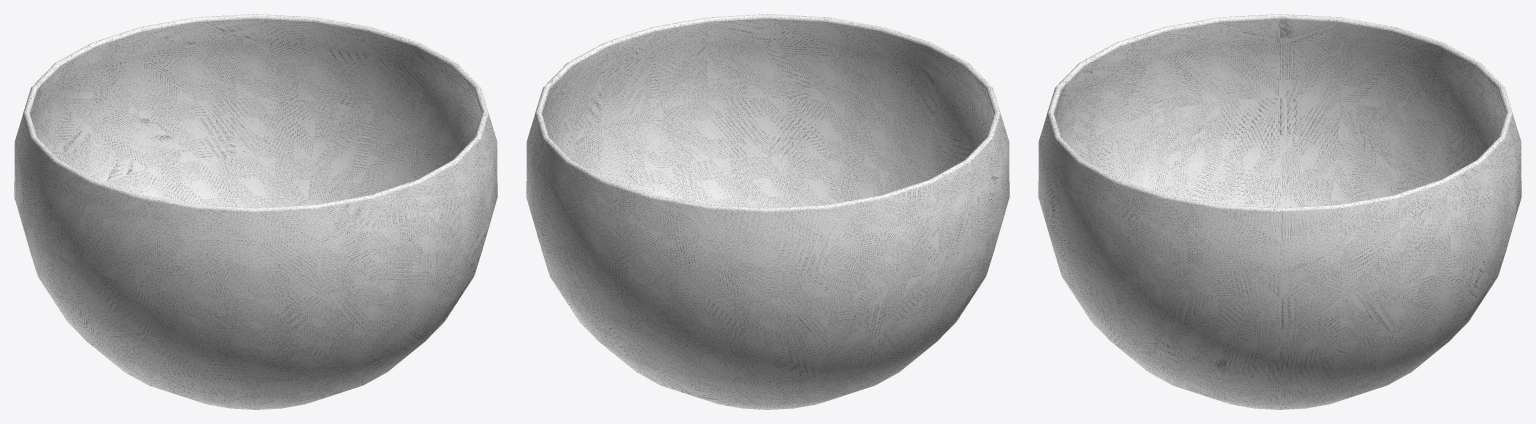
The model's file is bowl_03_origin.dae.
3 renders of one model, left to right at view 1: azimuth 30°, elevation 25°; view 2: azimuth 150°, elevation 25°; view 3: azimuth 270°, elevation 25°, orthographic.
Visible parts, largest first — view 1: bowl; view 2: bowl; view 3: bowl.
Part boxes in pixels (left/top/right/bottom): bowl: left=14, top=14, right=497, bottom=409; bowl: left=526, top=14, right=1009, bottom=409; bowl: left=1038, top=14, right=1521, bottom=409.
Size of the model in its own units: 4.65 by 4.65 by 2.89.
2 materials, 1 textured.
